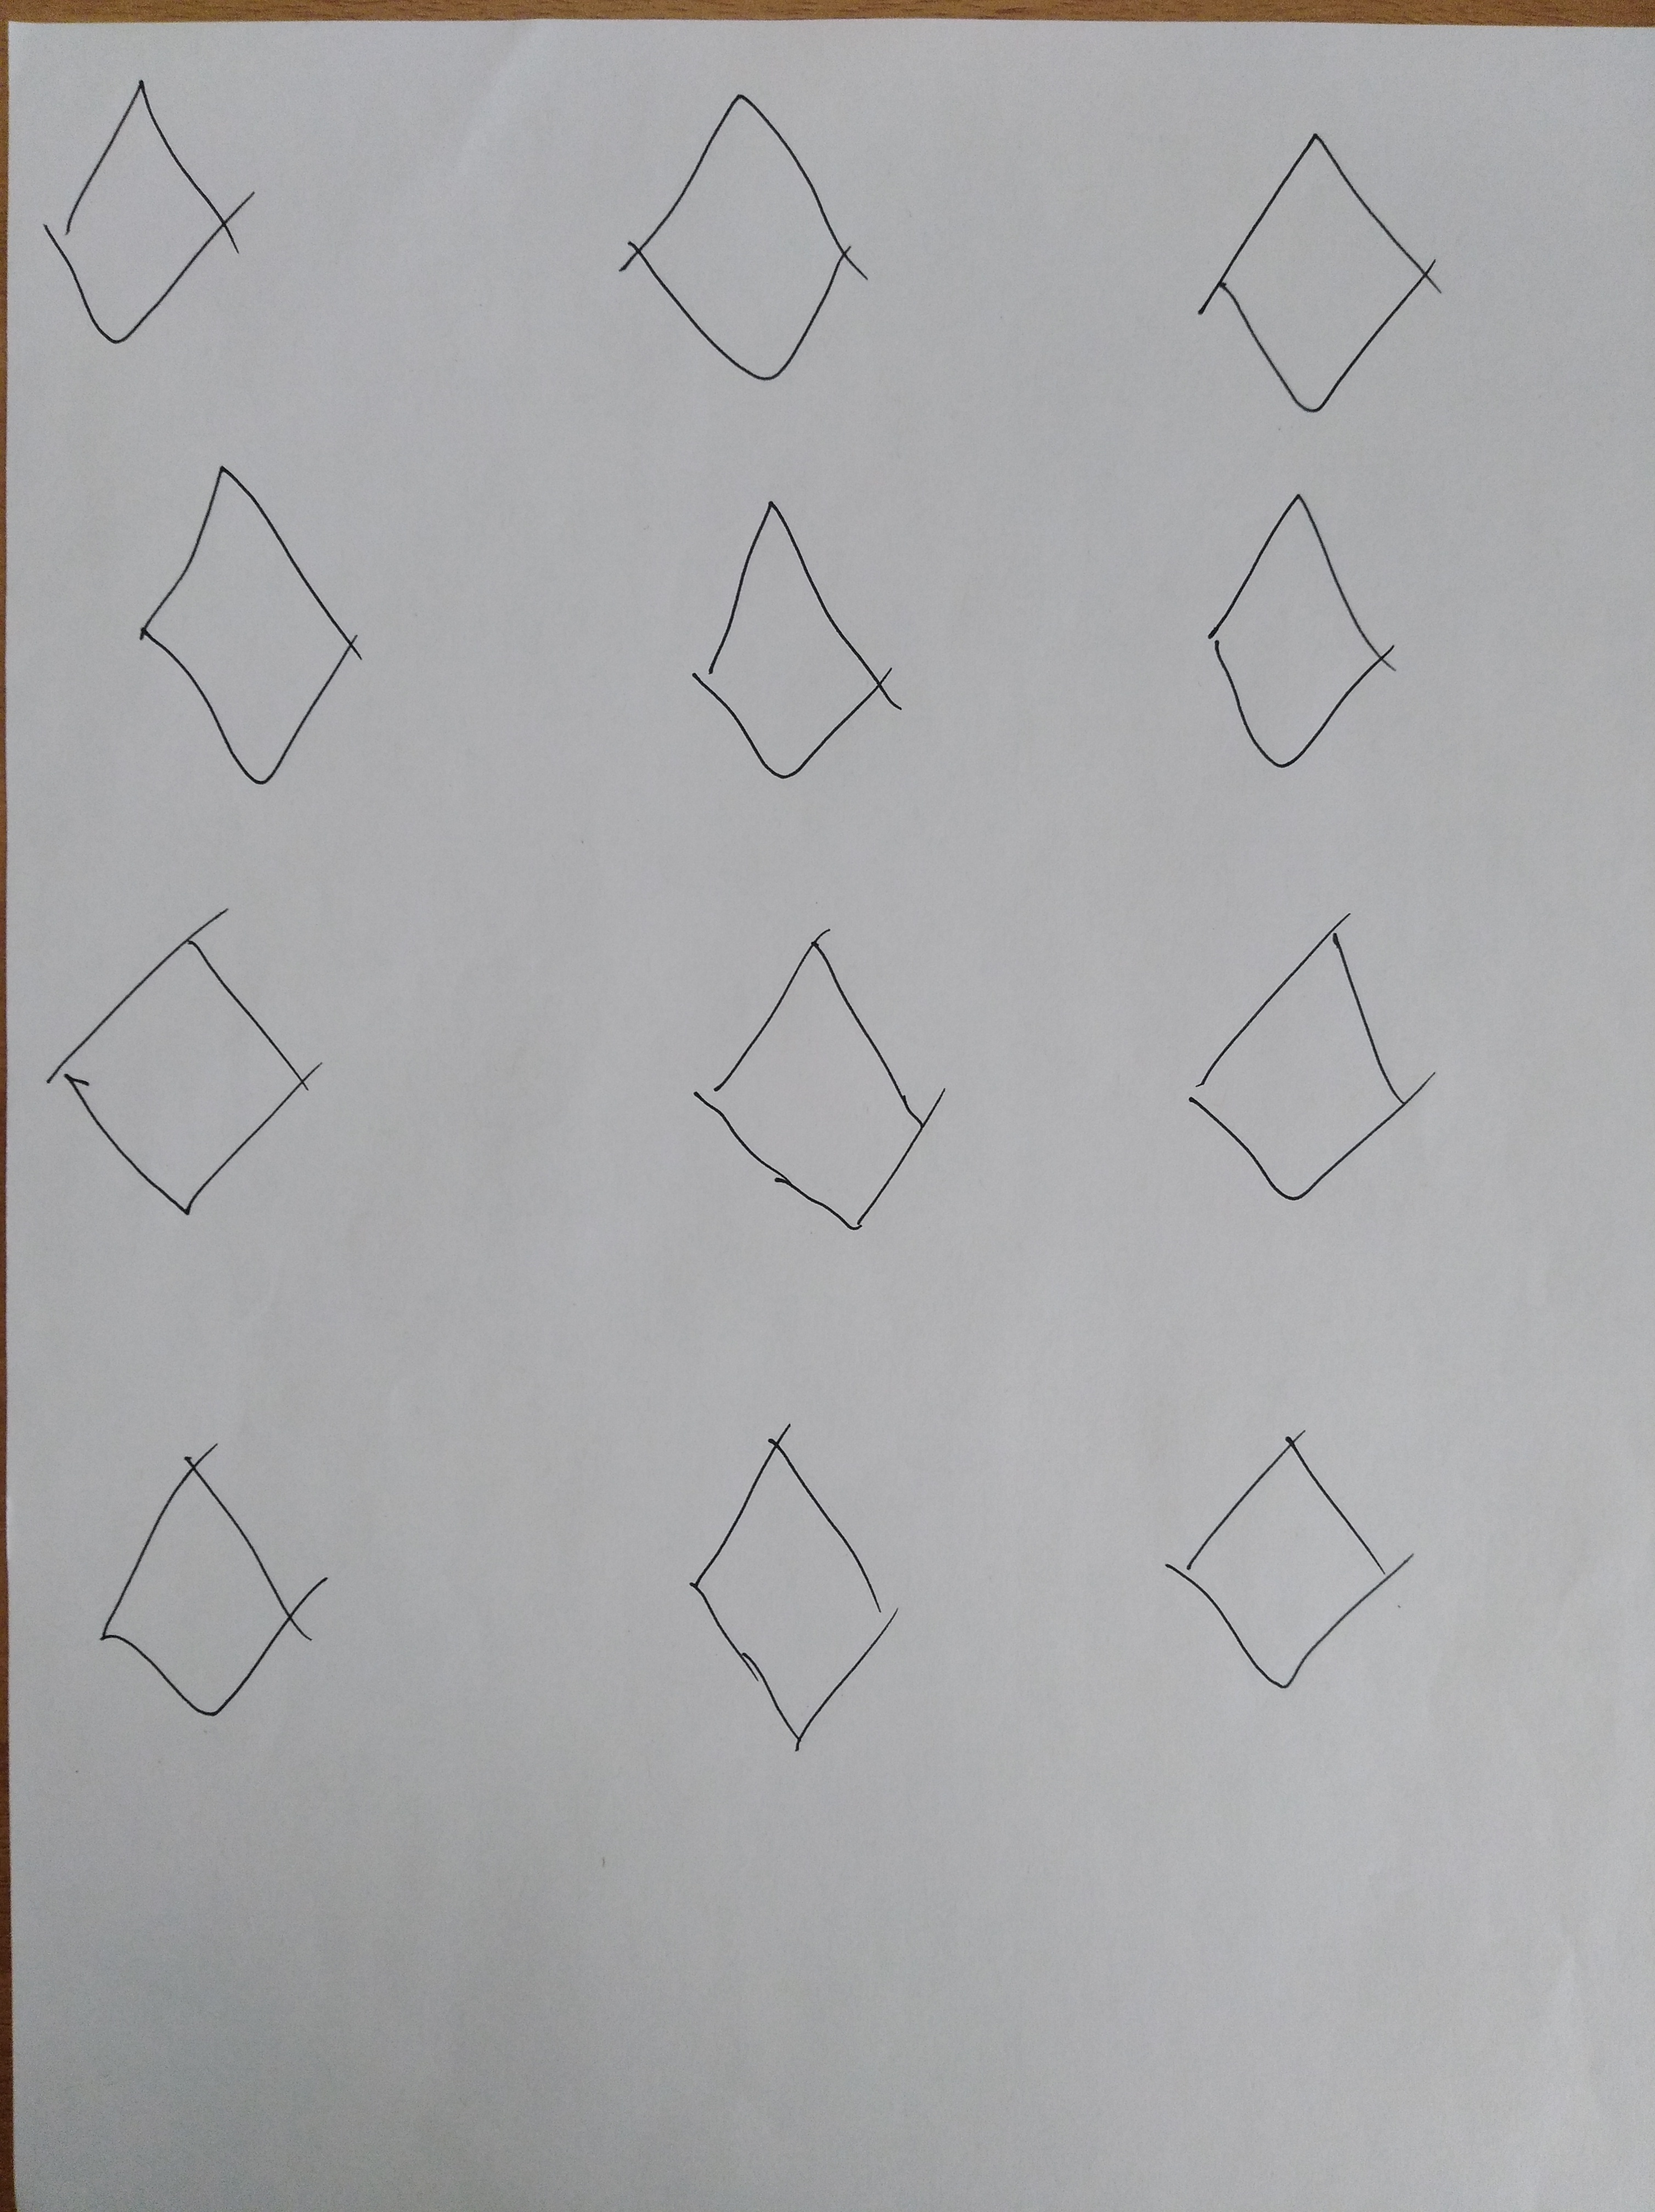decision: (643, 904, 1000, 1270), (647, 1390, 974, 1781), (30, 879, 367, 1246), (596, 47, 921, 424), (1158, 78, 1485, 441), (1118, 1394, 1467, 1729), (106, 438, 414, 815), (624, 462, 949, 808), (1147, 897, 1478, 1225), (54, 1401, 353, 1757), (19, 47, 304, 393), (1172, 471, 1436, 811)
